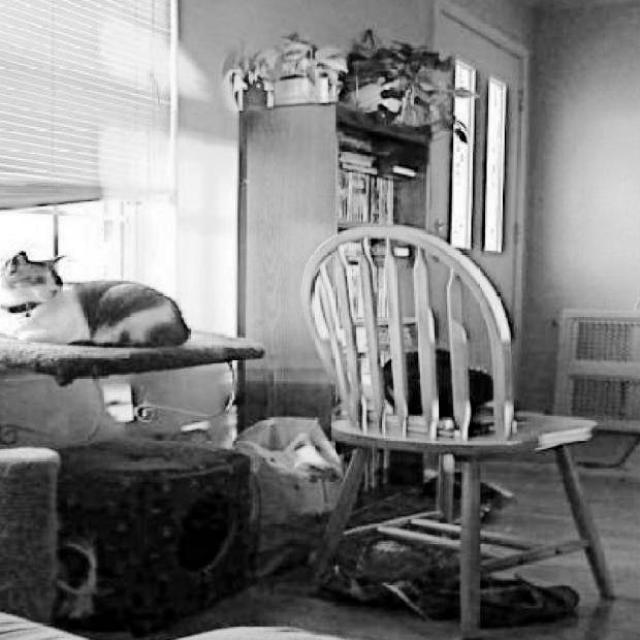Cat: (0, 246, 193, 352)
